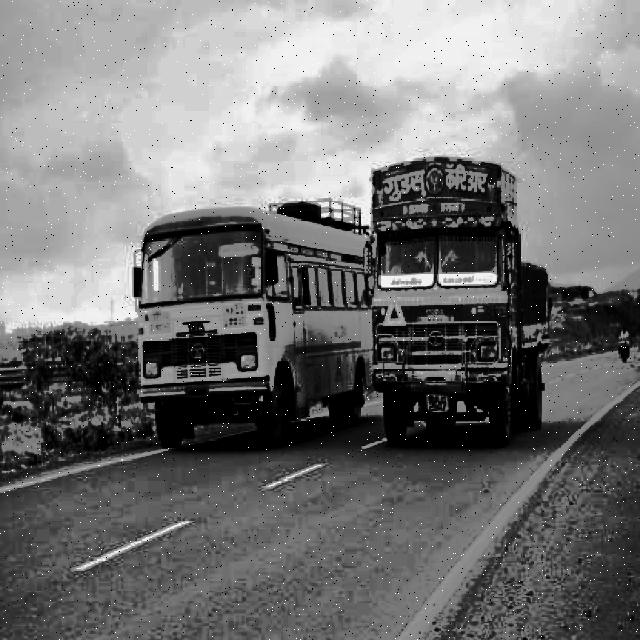HCV: (374, 148, 551, 435)
